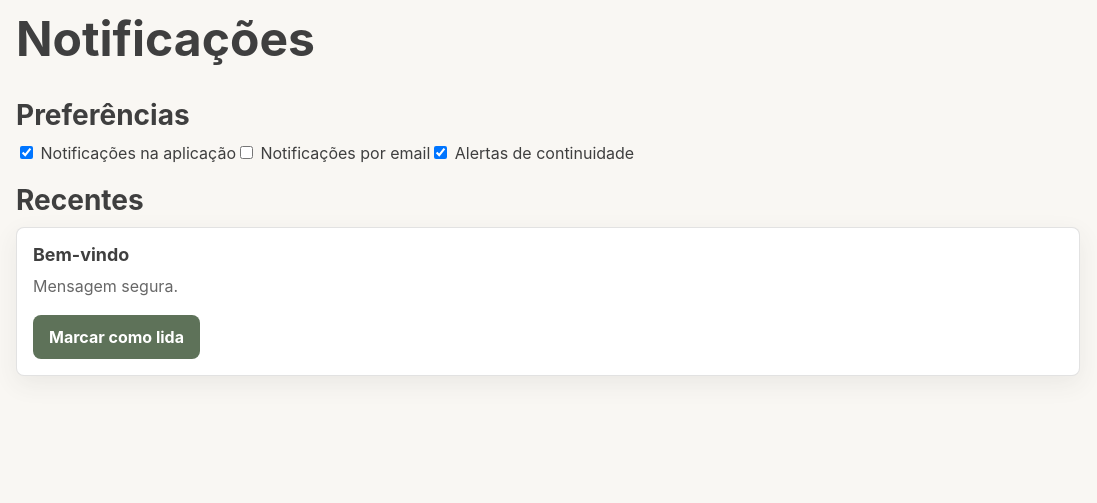
Test case: NotificationsPage › reverte a preferência otimista quando a escrita falha
This screenshot has width=1097, height=503.
Click the checkbox labelled "Notificações por email" at (246,152), box [240,146,253,158]
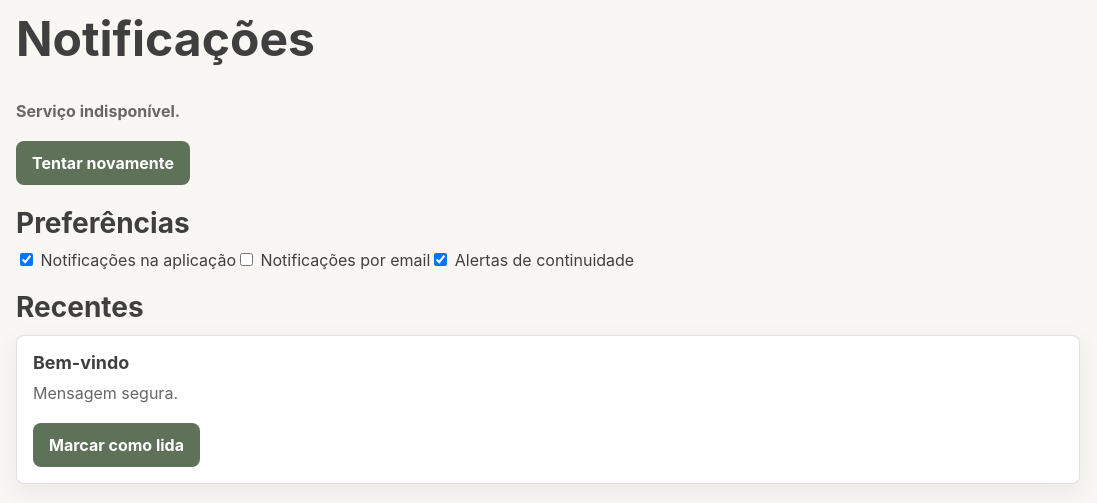
Expected: the checkbox labelled "Notificações por email" is not checked, [240,253,253,266]
Result: the message shows "Serviço indisponível." at [16,101,180,121]
